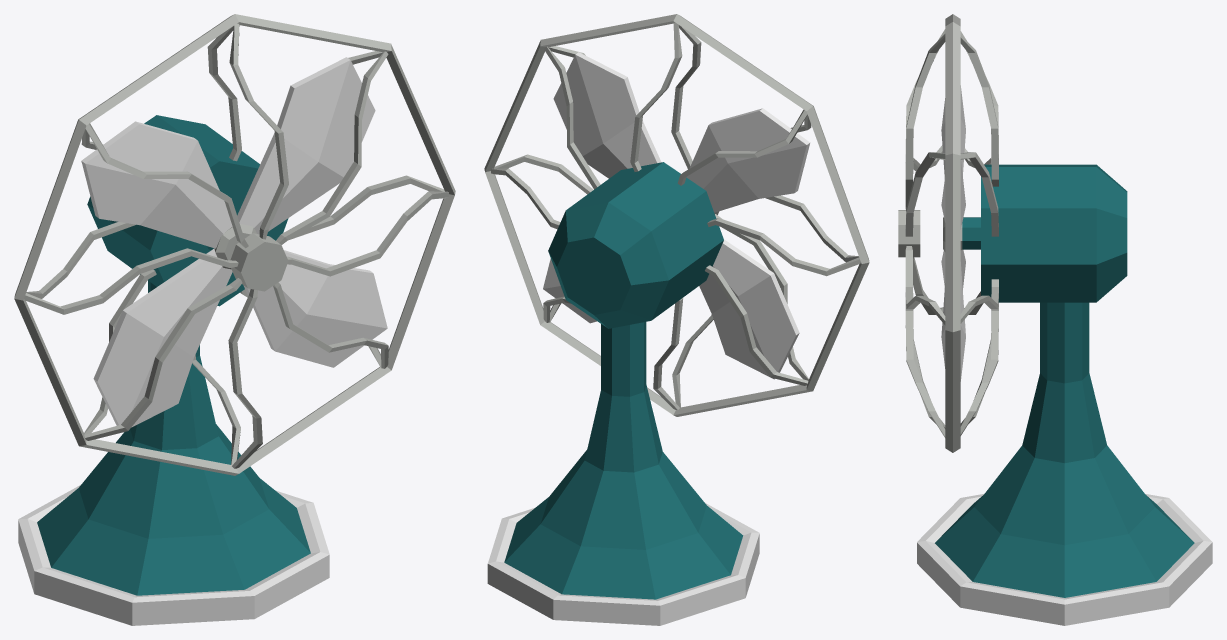
File: DeskFan.fbx
3 renders of one model, left to right at view 1: azimuth 30°, elevation 25°; view 2: azimuth 150°, elevation 25°; view 3: azimuth 270°, elevation 25°, orthographic. The views are drawn at different scales.
Visible parts, largest first — view 1: base, fan, blades; view 2: fan, base, blades; view 3: base, fan, blades.
Boxes of the visible parts, box(x1,y1,x2,y2) form: base: box(18, 280, 329, 625); fan: box(14, 14, 455, 475); blades: box(81, 57, 387, 427); fan: box(484, 14, 869, 416); base: box(487, 322, 759, 625); blades: box(543, 52, 810, 379); base: box(917, 302, 1212, 625); fan: box(898, 14, 1127, 452); blades: box(941, 85, 965, 381).
Bounding box in the file's own units: 316 × 404 × 213.
